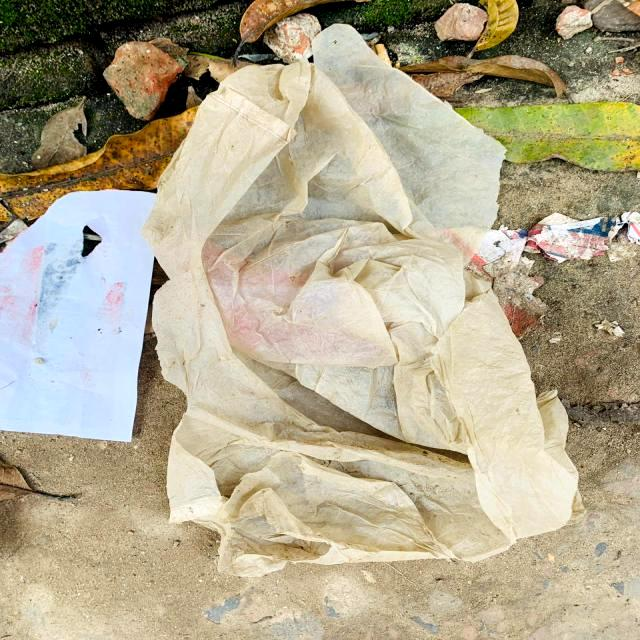polythene: (149, 47, 579, 588)
